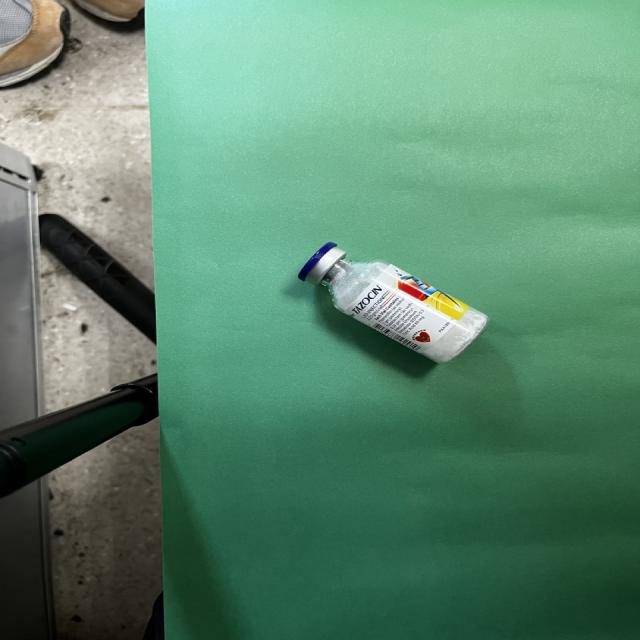Vials: (299, 242, 487, 363)
